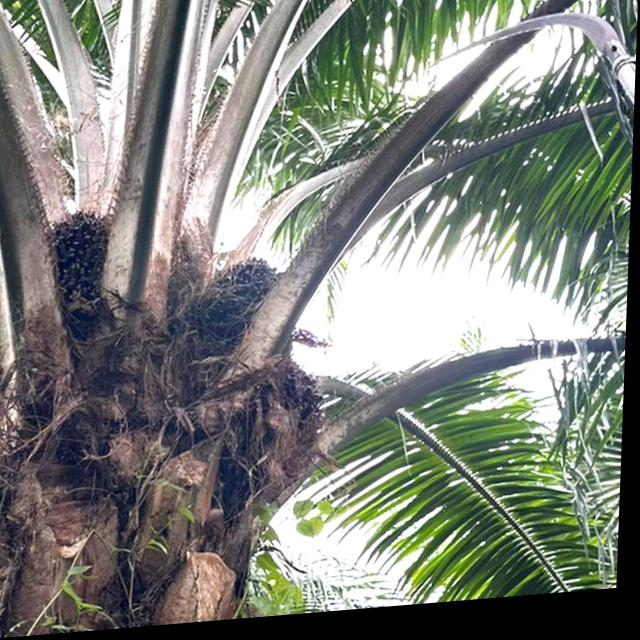unripe: (32, 193, 138, 338), (237, 349, 346, 485), (184, 250, 298, 375)
